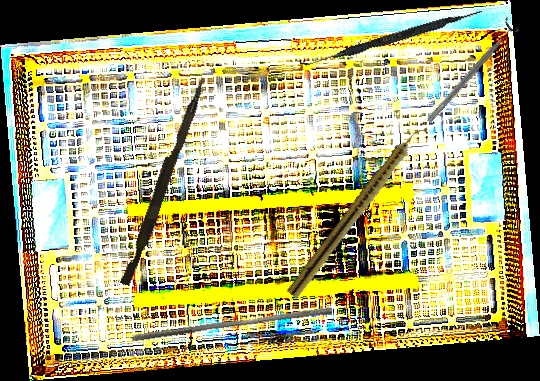Fixation Ring: (420, 16, 523, 128)
Handpiece: (285, 119, 430, 303)
Pusher: (119, 73, 208, 289), (131, 299, 333, 350)
Spatula Surgical: (299, 4, 484, 73)
